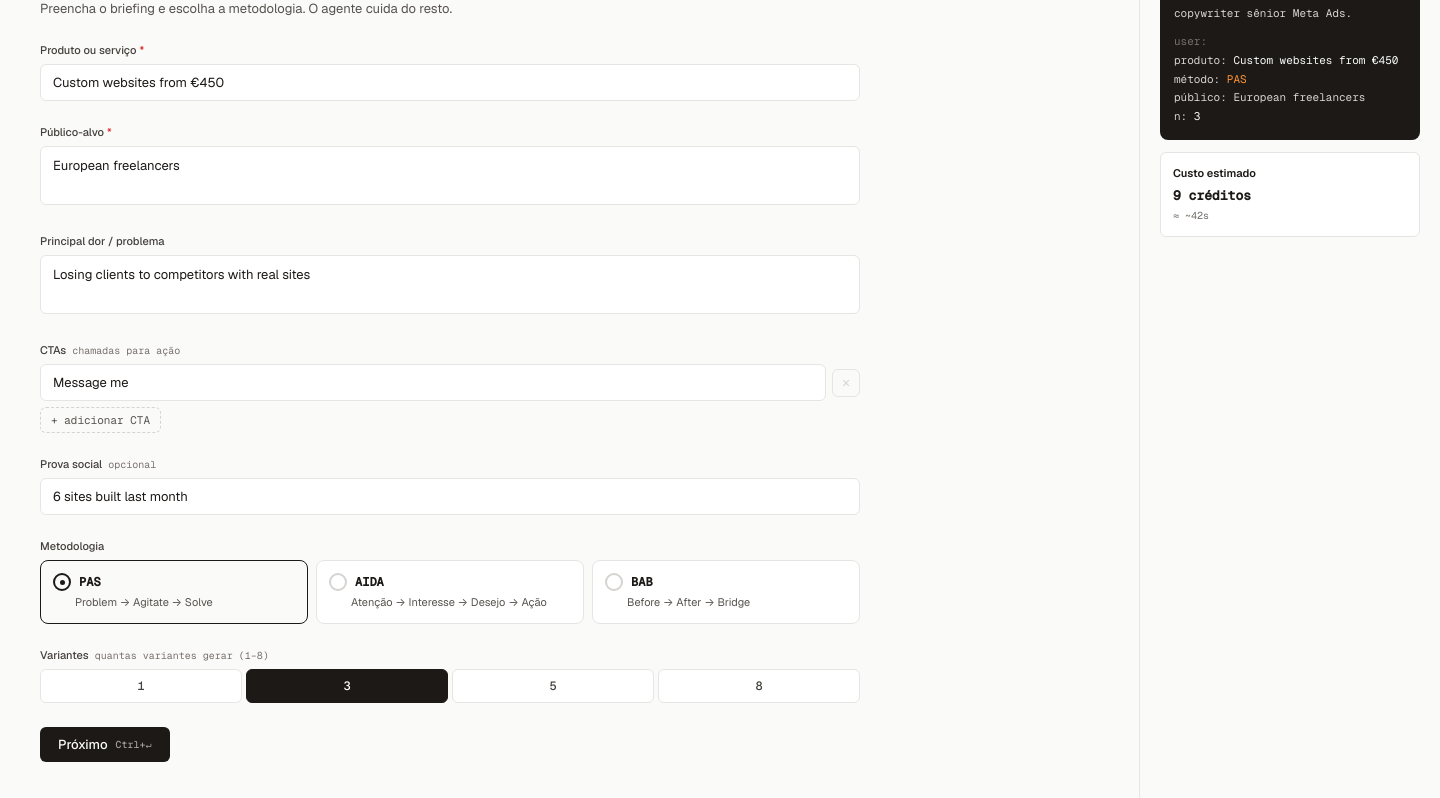
Scenario: FlowView › surfaces a role="alert" when saveBrief rejects on "Próximo"
(page scrolled)
Click the button "Próximo Ctrl+↵".
click(105, 744)  # box top-left (40, 726), bottom-right (170, 762)
(page scrolled)
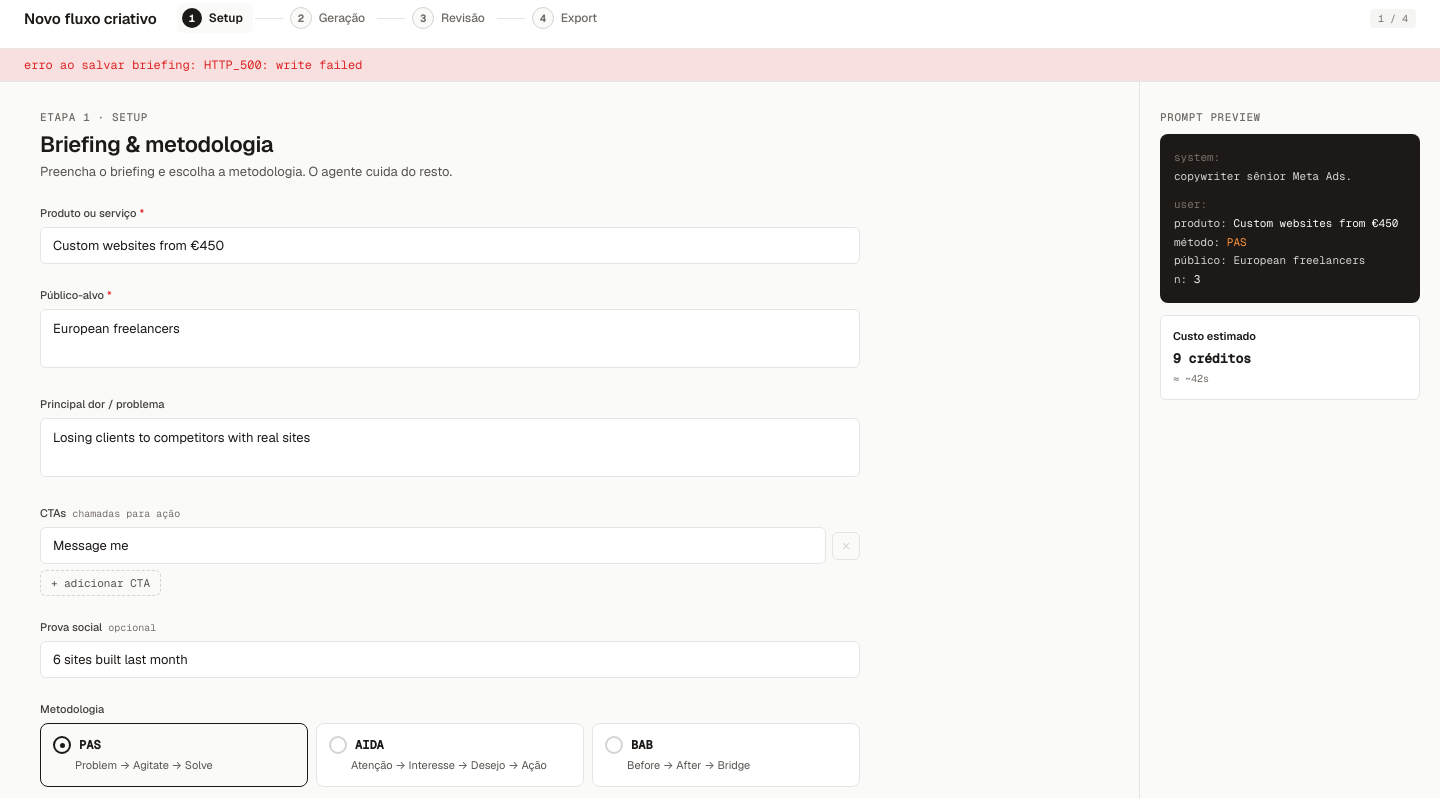
Now the message shows "erro ao salvar briefing", box top-left (24, 57), bottom-right (204, 73)
Now the message shows "HTTP_500", box top-left (204, 57), bottom-right (362, 73)
